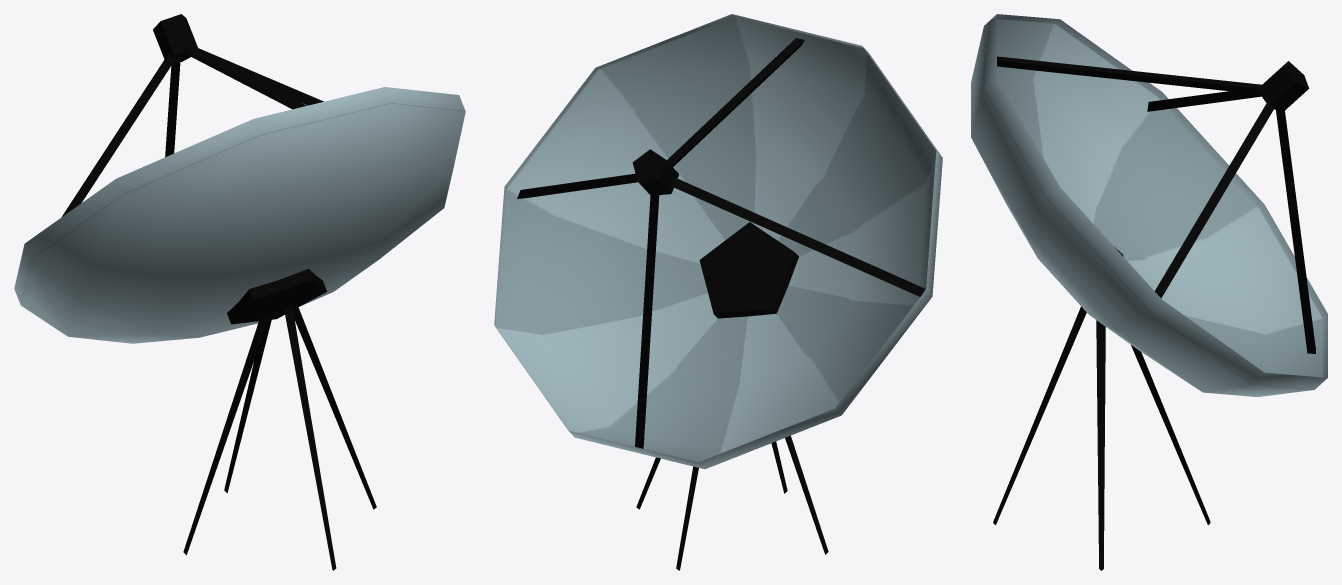
File: Antenna001.fbx
3 renders of one model, left to right at view 1: azimuth 30°, elevation 25°; view 2: azimuth 150°, elevation 25°; view 3: azimuth 270°, elevation 25°, orthographic.
Parts seen in each view (by area): view 1: TODOS:polySurface3; view 2: TODOS:polySurface3; view 3: TODOS:polySurface3.
Boxes of the visible parts, box(x1,y1,x2,y2) form: TODOS:polySurface3: box(14, 14, 465, 570); TODOS:polySurface3: box(494, 14, 942, 570); TODOS:polySurface3: box(971, 14, 1327, 570).
Bounding box in the file's own units: 8.48 × 9 × 6.15.
